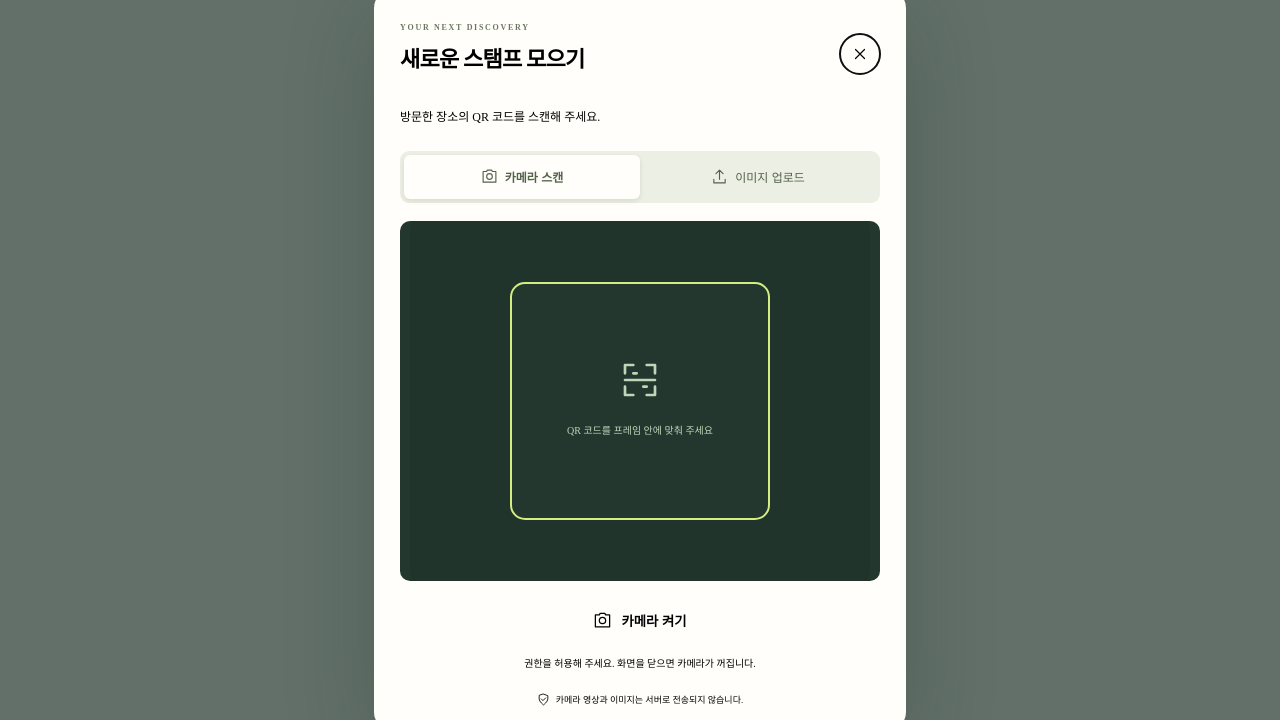
stops after one decoded result and does not double-register frames
Click the button "카메라 켜기" at (640, 621), box left=400, top=597, right=880, bottom=645
(page scrolled)
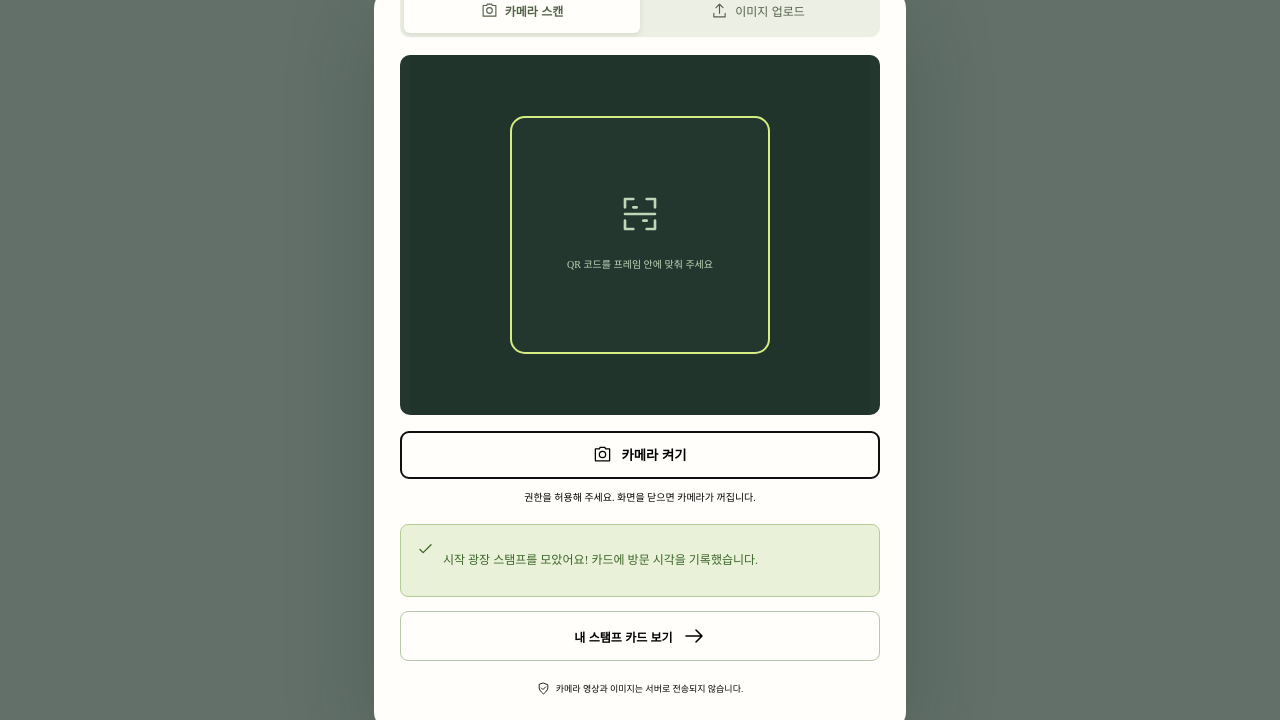
Expected: the message shows "시작 광장 스탬프를 모았어요", left=443, top=553, right=758, bottom=567
